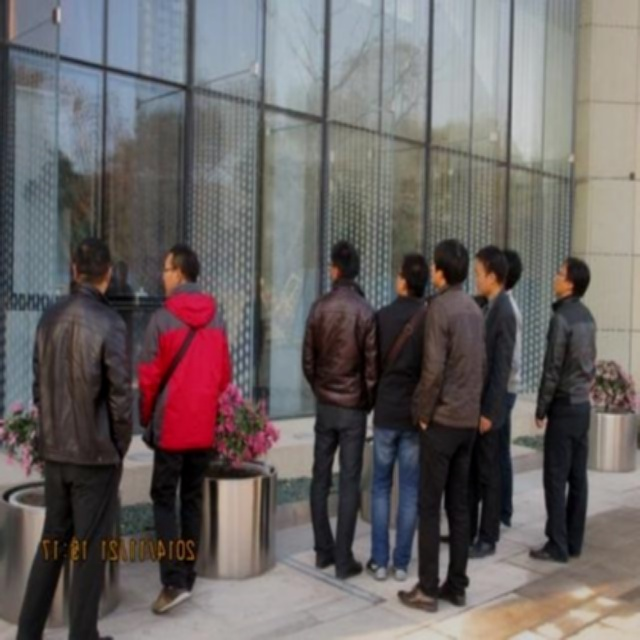Sin_Casco_Mascarrilla: (68, 237, 112, 296), (328, 241, 362, 288)
Sin_Chaleco: (144, 294, 224, 449), (421, 297, 483, 420), (542, 302, 596, 408)
